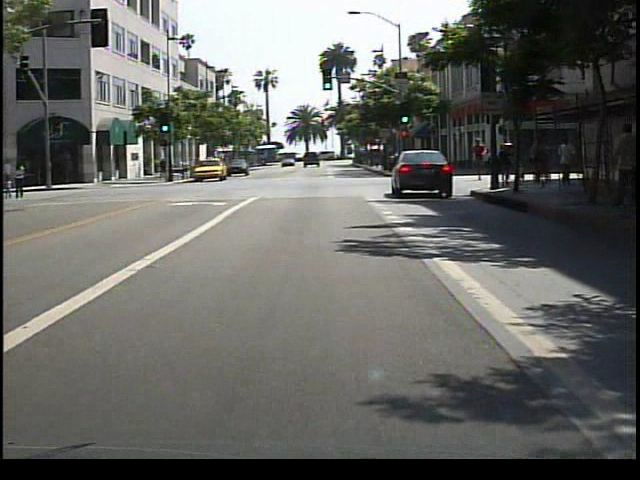person: (469, 134, 493, 186), (14, 160, 36, 201)
